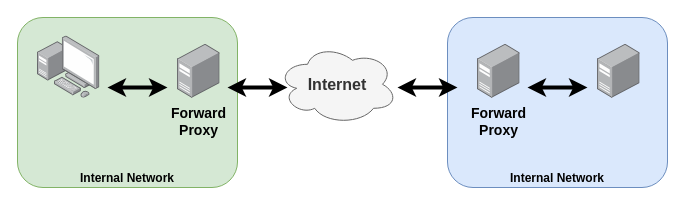
The diagram is 685 pixels wide and 205 high, and some of its shapes have lost their labels. The shapes that lost their labels are listed below. From the top down, each one's box as (x1, y1, x2, y2) in pixels, then its label:
(37, 35, 99, 98): Client
(597, 44, 640, 98): Server
